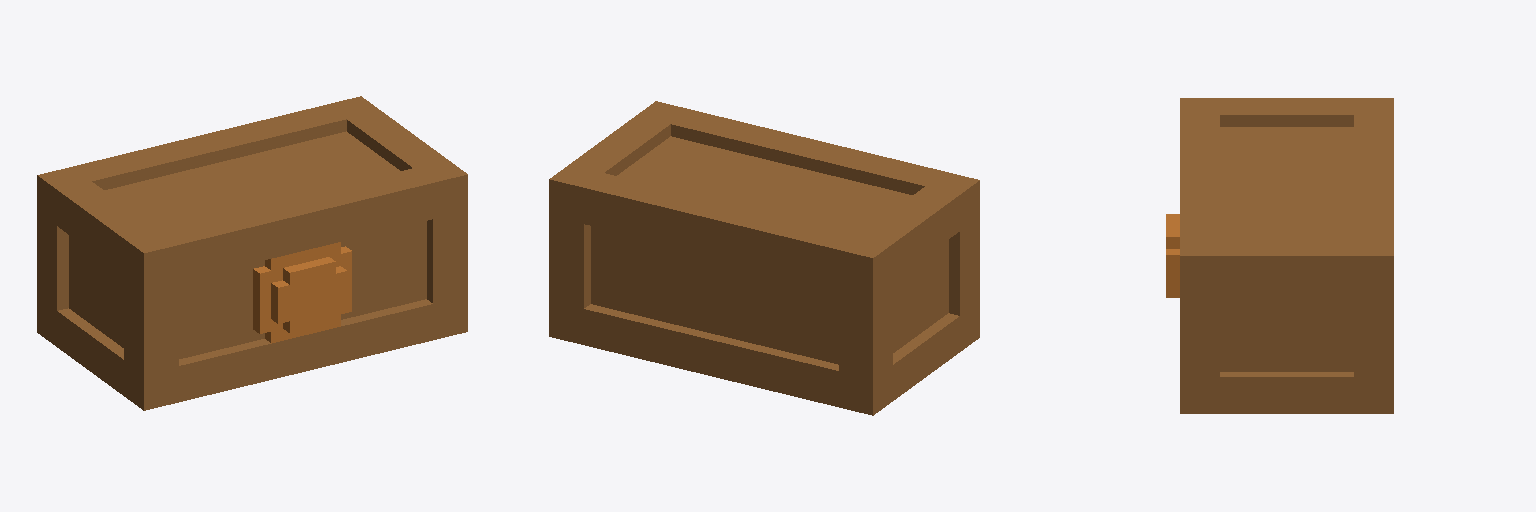
3 renders of one model, left to right at view 1: azimuth 30°, elevation 25°; view 2: azimuth 150°, elevation 25°; view 3: azimuth 270°, elevation 25°, orthographic.
Visible parts, largest first — view 1: object 1; view 2: object 1; view 3: object 1.
Part boxes in pixels (x1,y1,x2,y2): object 1: (37,96,467,410); object 1: (549,101,979,415); object 1: (1166,98,1393,413).
Size of the model in its own units: 2.8 by 1.3 by 1.7.
Materials: 1 (1 with a texture image).